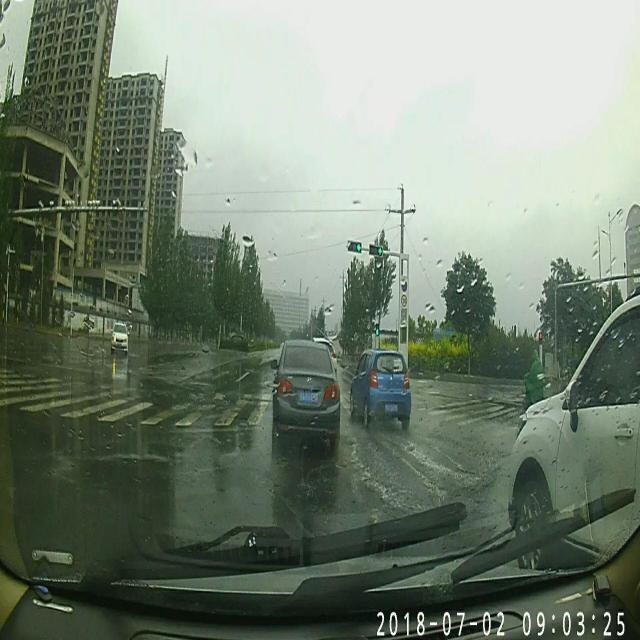car: (272, 336, 342, 448), (349, 346, 414, 426), (111, 320, 129, 353)
